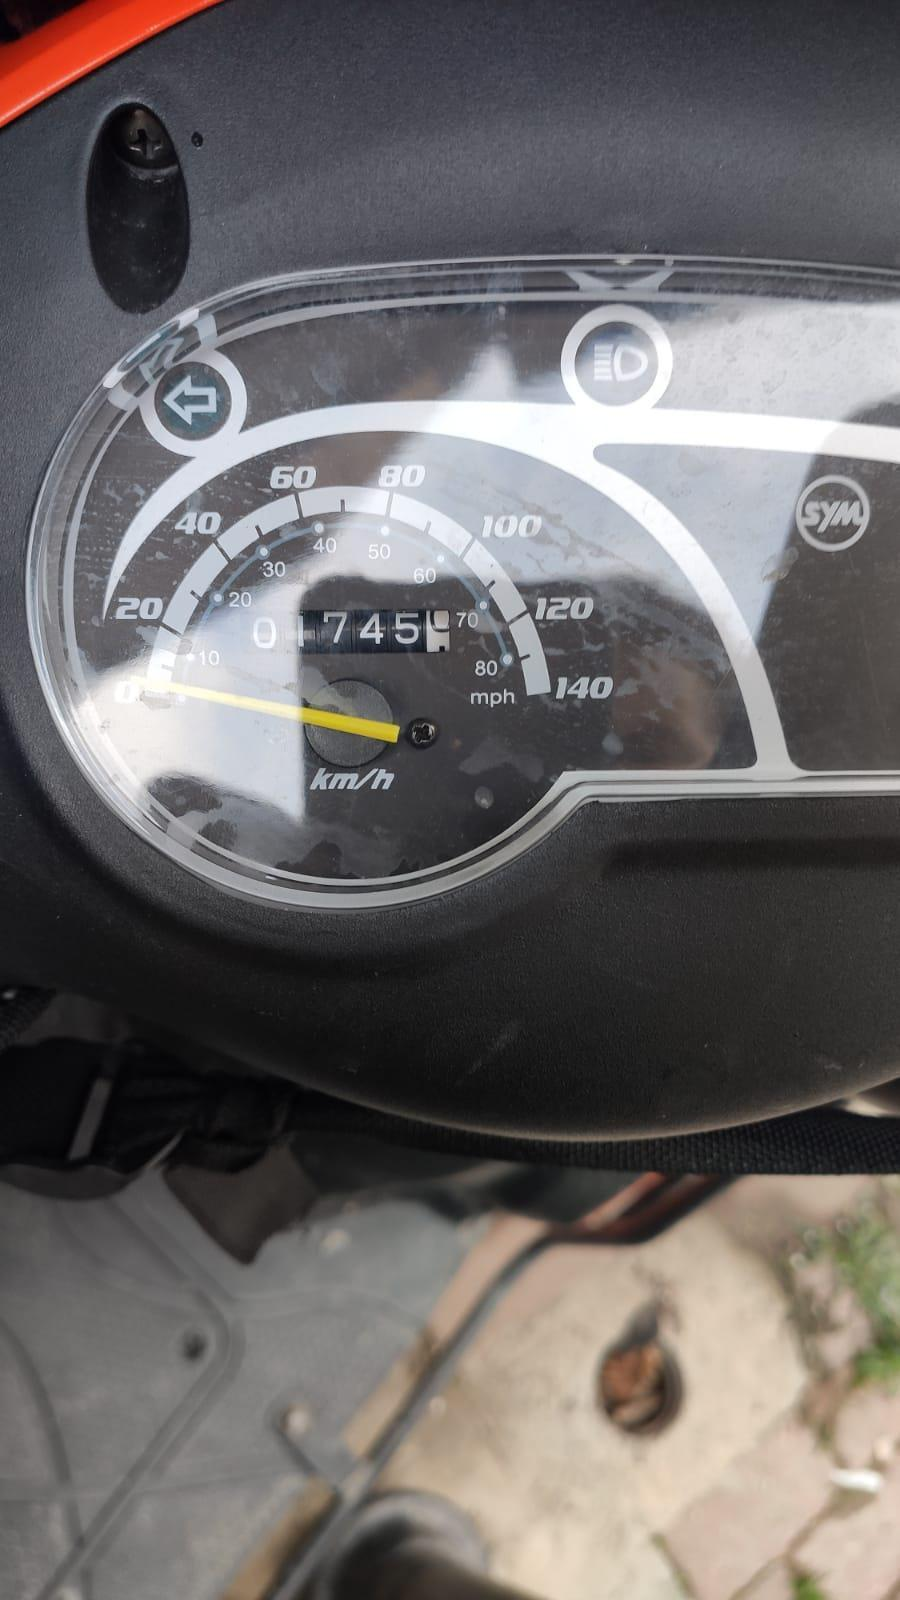0: (248, 613, 279, 651), (427, 607, 452, 636)
1: (292, 613, 305, 652)
4: (357, 612, 385, 646)
5: (393, 609, 421, 646)
7: (322, 608, 349, 644)
odometer: (230, 607, 457, 658)
